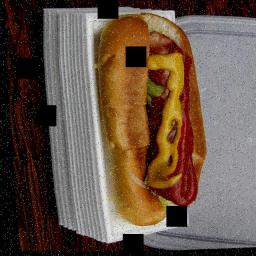hotdog: (85, 9, 218, 235)
